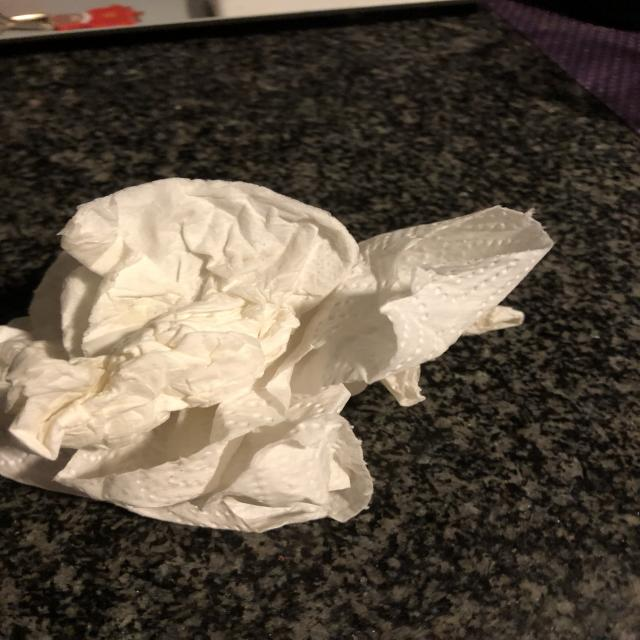kitchen paper: (0, 179, 561, 536)
